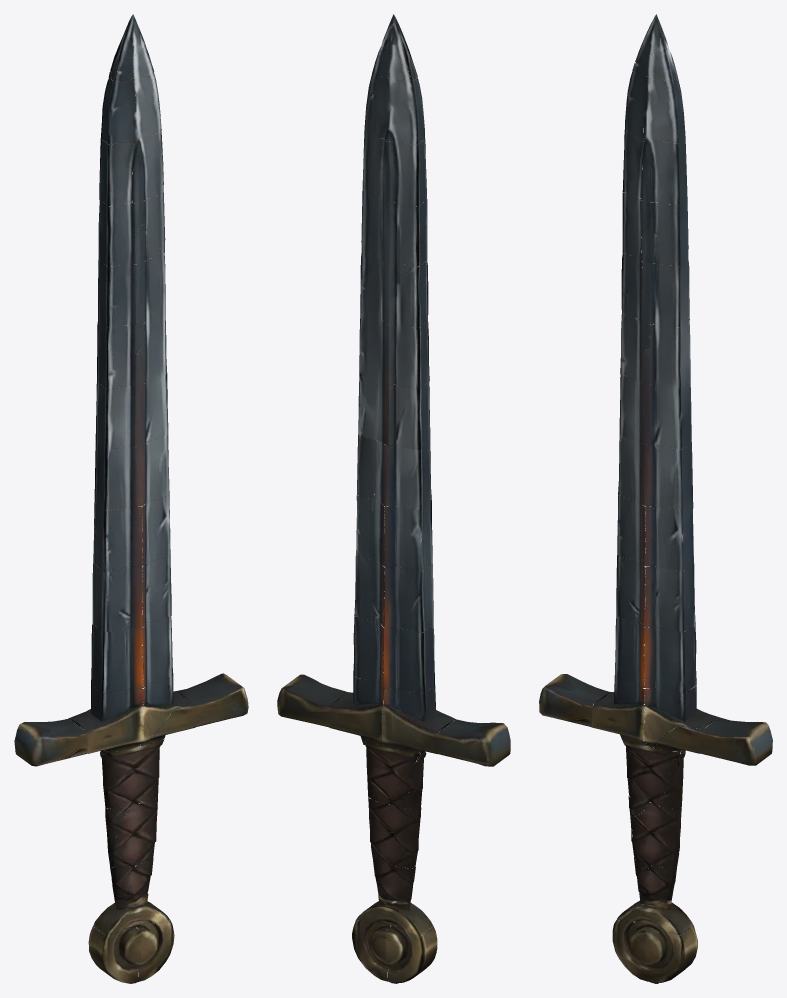
Rendered from ember_sword.glb.
3 views of the same model, side by side, from view 1: azimuth 30°, elevation 25°; view 2: azimuth 150°, elevation 25°; view 3: azimuth 330°, elevation 25° (orthographic).
Parts seen in each view (by area): view 1: weapon; view 2: weapon; view 3: weapon.
Part boxes in pixels (<box>): weapon: <box>14,14,248,983</box>; weapon: <box>277,14,510,983</box>; weapon: <box>539,14,772,983</box>.
Bounding box in the file's own units: 0.2115 × 0.9 × 0.0414.
1 material, 1 textured.
